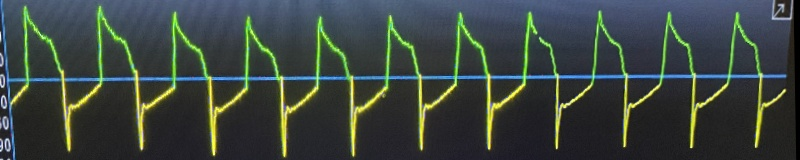peepi: (8, 3, 773, 158)
